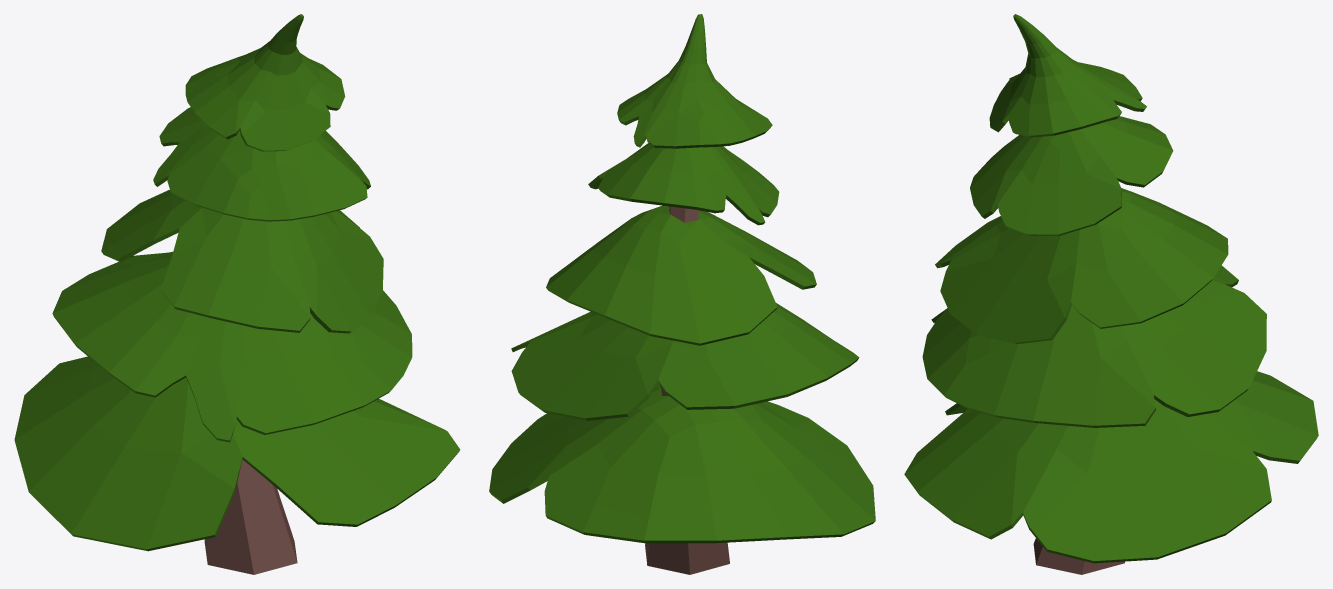
The model's file is tree.fbx.
3 renders of one model, left to right at view 1: azimuth 30°, elevation 25°; view 2: azimuth 150°, elevation 25°; view 3: azimuth 270°, elevation 25°, orthographic. The views are drawn at different scales.
Parts seen in each view (by area): view 1: PineTree_1.006; view 2: PineTree_1.006; view 3: PineTree_1.006.
Boxes of the visible parts, x1,y1,x2,y2 form: PineTree_1.006: (14, 14, 460, 574); PineTree_1.006: (489, 14, 875, 574); PineTree_1.006: (904, 14, 1318, 574).
Size of the model in its own units: 388 by 546 by 374.
